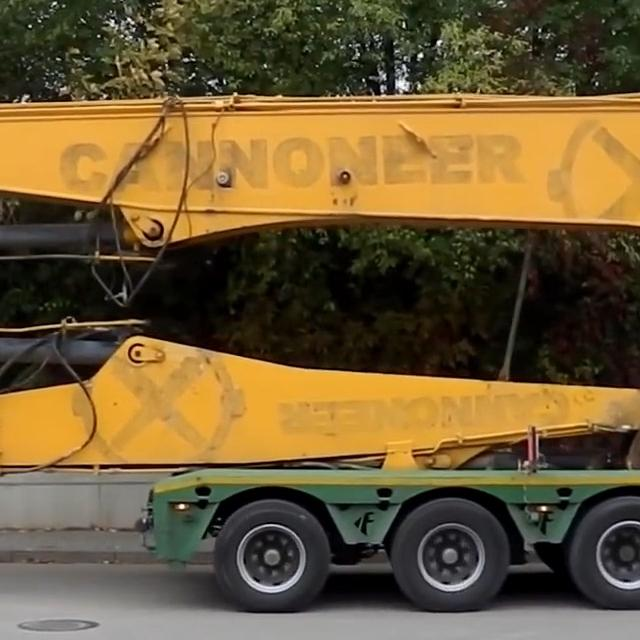machinery: (0, 41, 640, 513)
